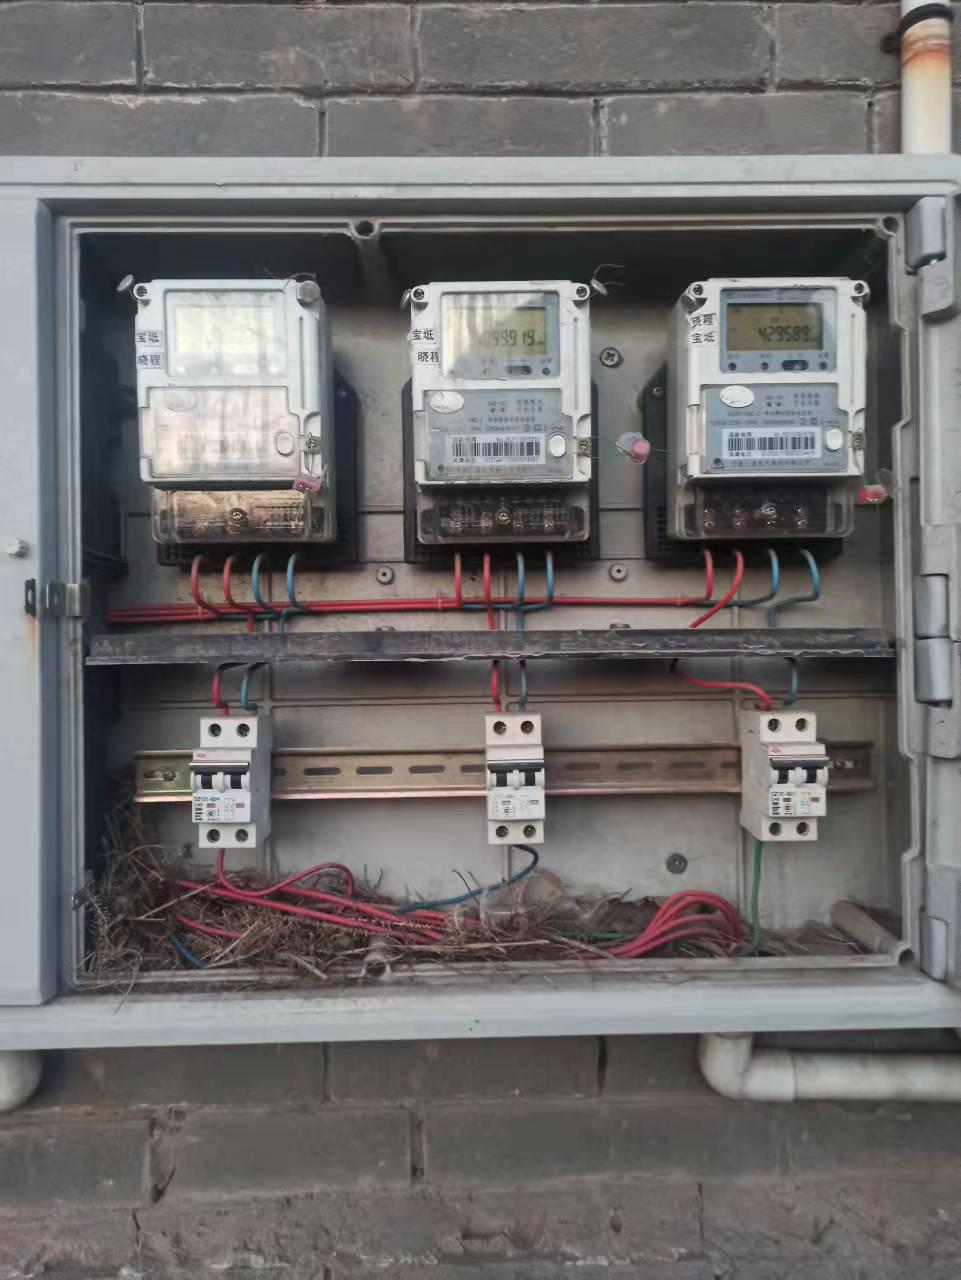digital: (136, 279, 320, 481), (416, 281, 588, 486), (689, 279, 859, 476)
